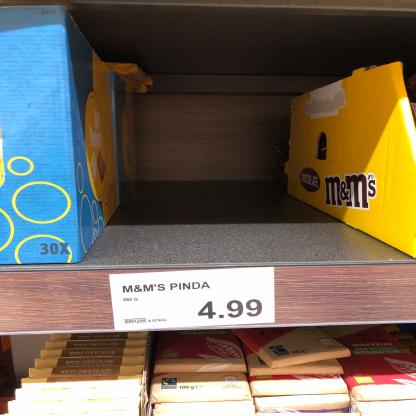prtg: (111, 268, 277, 332)
